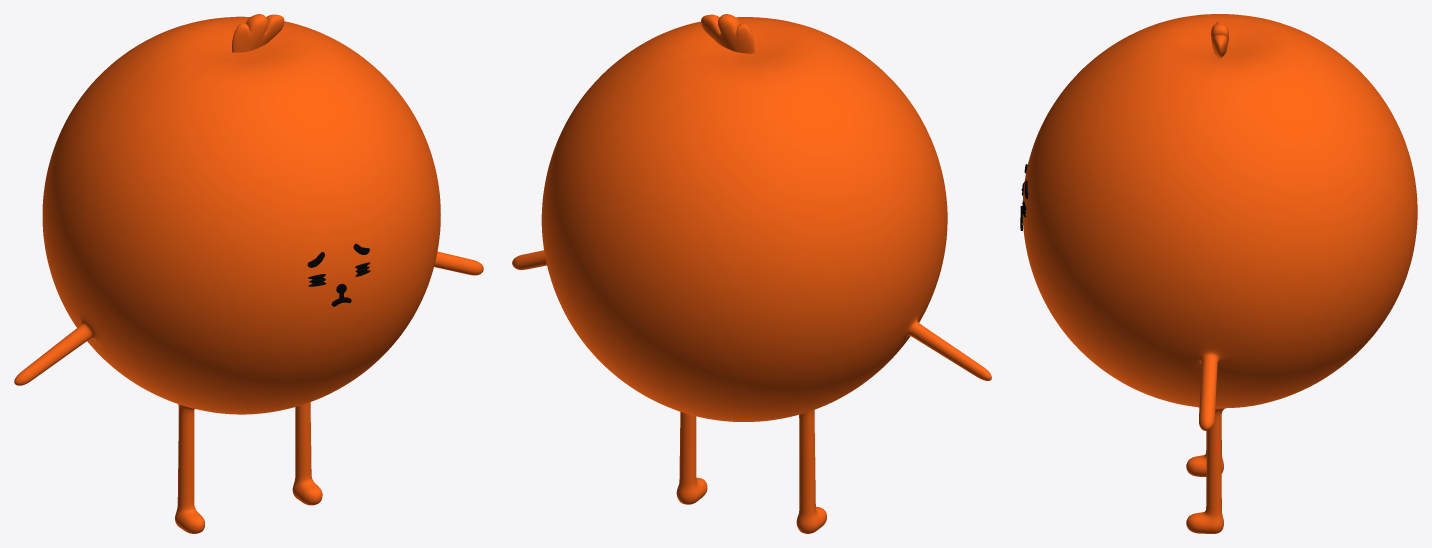
File: YOHO_C01_Rig_A_v05.glb
3 renders of one model, left to right at view 1: azimuth 30°, elevation 25°; view 2: azimuth 150°, elevation 25°; view 3: azimuth 270°, elevation 25°, orthographic. The views are drawn at different scales.
Parts seen in each view (by area): view 1: YOIHO_C01_Model, C01_hair; view 2: YOIHO_C01_Model, C01_hair; view 3: YOIHO_C01_Model, C01_hair.
Boxes of the visible parts, <box> form: YOIHO_C01_Model: <box>14,16,483,533</box>; C01_hair: <box>232,14,284,52</box>; YOIHO_C01_Model: <box>512,17,991,533</box>; C01_hair: <box>701,14,754,53</box>; YOIHO_C01_Model: <box>1022,14,1417,533</box>; C01_hair: <box>1211,21,1228,57</box>.
Bounding box in the file's own units: 2.44 × 2.44 × 1.81.
